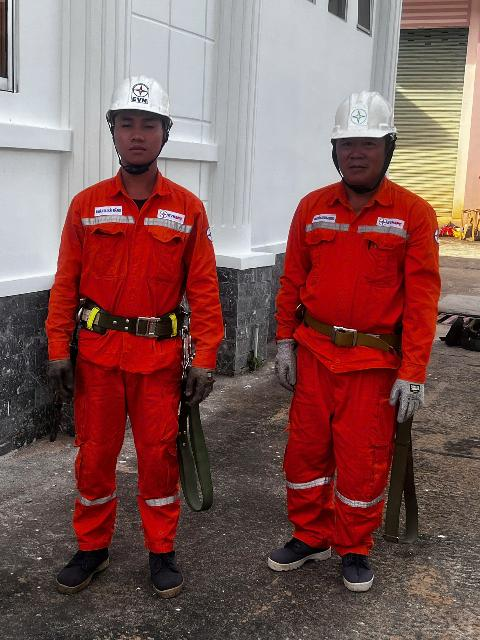gloves: (388, 372, 431, 424), (42, 356, 84, 403), (271, 337, 302, 392), (182, 363, 223, 399)
harness: (282, 300, 411, 375), (76, 288, 202, 355)
helmet: (107, 63, 193, 136), (328, 82, 413, 144)
shoes: (50, 535, 112, 599), (328, 545, 384, 608), (141, 543, 201, 600), (264, 524, 339, 568)
